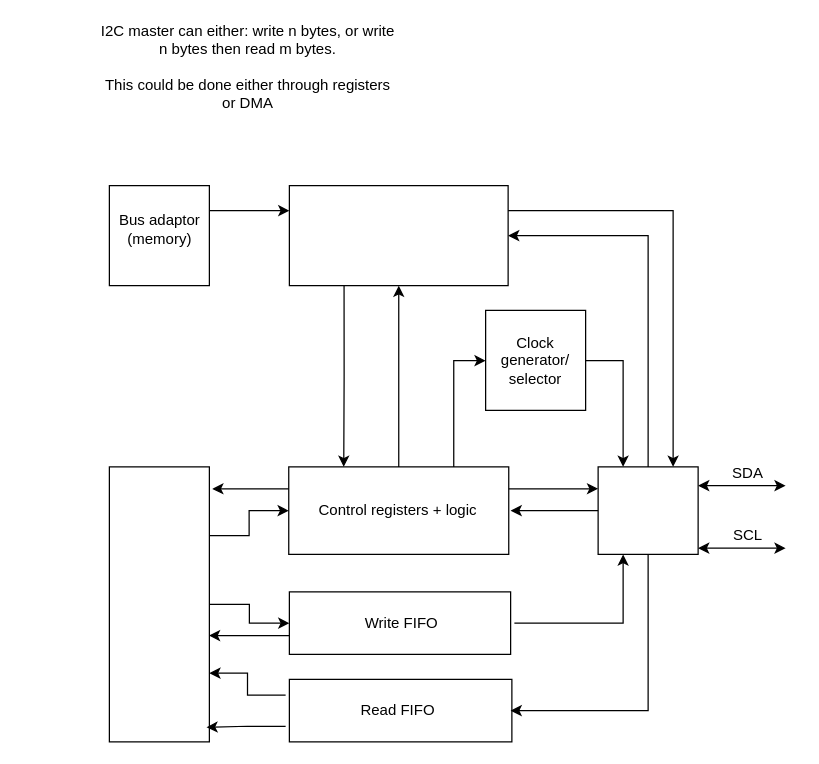
The diagram is 819 pixels wide and 764 high, and some of its shapes have lost their labels. The box of each missing label's shape, as (x1, y1, x2, y2) in pixels:
Bus adaptor (registers): (108, 466, 209, 742)
DMA controller: (288, 184, 508, 286)
IO block: (597, 466, 698, 554)
